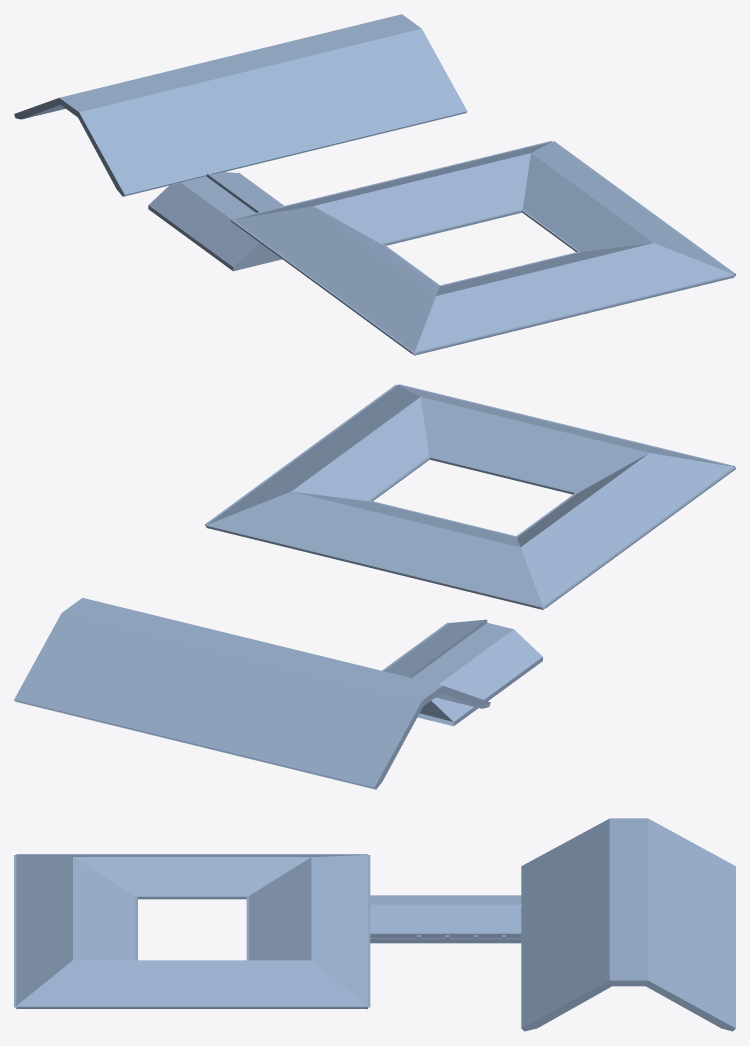
Rendered from Roofs.fbx.
The picture shows the model from 3 angles, top to bottom: view 1: azimuth 30°, elevation 25°; view 2: azimuth 150°, elevation 25°; view 3: azimuth 270°, elevation 25°; orthographic projection. The views are drawn at different scales.
Parts seen in each view (by area): view 1: Animal_stables6, Roof, Roof4, Roof3, roof2ndFloor8, Roof2, Roof1, Underbeam20; view 2: Animal_stables6, Roof, Roof1, Roof3, roof2ndFloor8, Roof2, Roof4, Underbeam20; view 3: Animal_stables6, Roof, Roof2, Roof1, Roof4, Underbeam20, roof2ndFloor8, Roof3.
Boxes of the visible parts, left/top/right/bottom form: Animal_stables6: left=14, top=14, right=467, bottom=196; Roof: left=313, top=153, right=653, bottom=295; Roof4: left=414, top=243, right=734, bottom=355; Roof3: left=231, top=206, right=435, bottom=355; roof2ndFloor8: left=148, top=176, right=281, bottom=271; Roof2: left=531, top=141, right=735, bottom=278; Roof1: left=232, top=141, right=552, bottom=219; Underbeam20: left=206, top=172, right=283, bottom=212; Animal_stables6: left=14, top=597, right=490, bottom=789; Roof: left=291, top=397, right=649, bottom=547; Roof1: left=206, top=491, right=542, bottom=609; Roof3: left=520, top=453, right=735, bottom=609; roof2ndFloor8: left=412, top=622, right=542, bottom=726; Roof2: left=205, top=384, right=419, bottom=528; Roof4: left=398, top=384, right=734, bottom=466; Underbeam20: left=382, top=619, right=487, bottom=677; Animal_stables6: left=521, top=818, right=735, bottom=1031; Roof: left=73, top=857, right=311, bottom=960; Roof2: left=16, top=960, right=367, bottom=1008; Roof1: left=311, top=855, right=370, bottom=1009; Roof4: left=14, top=855, right=72, bottom=1009; Underbeam20: left=370, top=904, right=522, bottom=940; roof2ndFloor8: left=370, top=895, right=521, bottom=943; Roof3: left=16, top=854, right=367, bottom=856.
Size of the model in its own units: 3462 by 707 by 6364.
